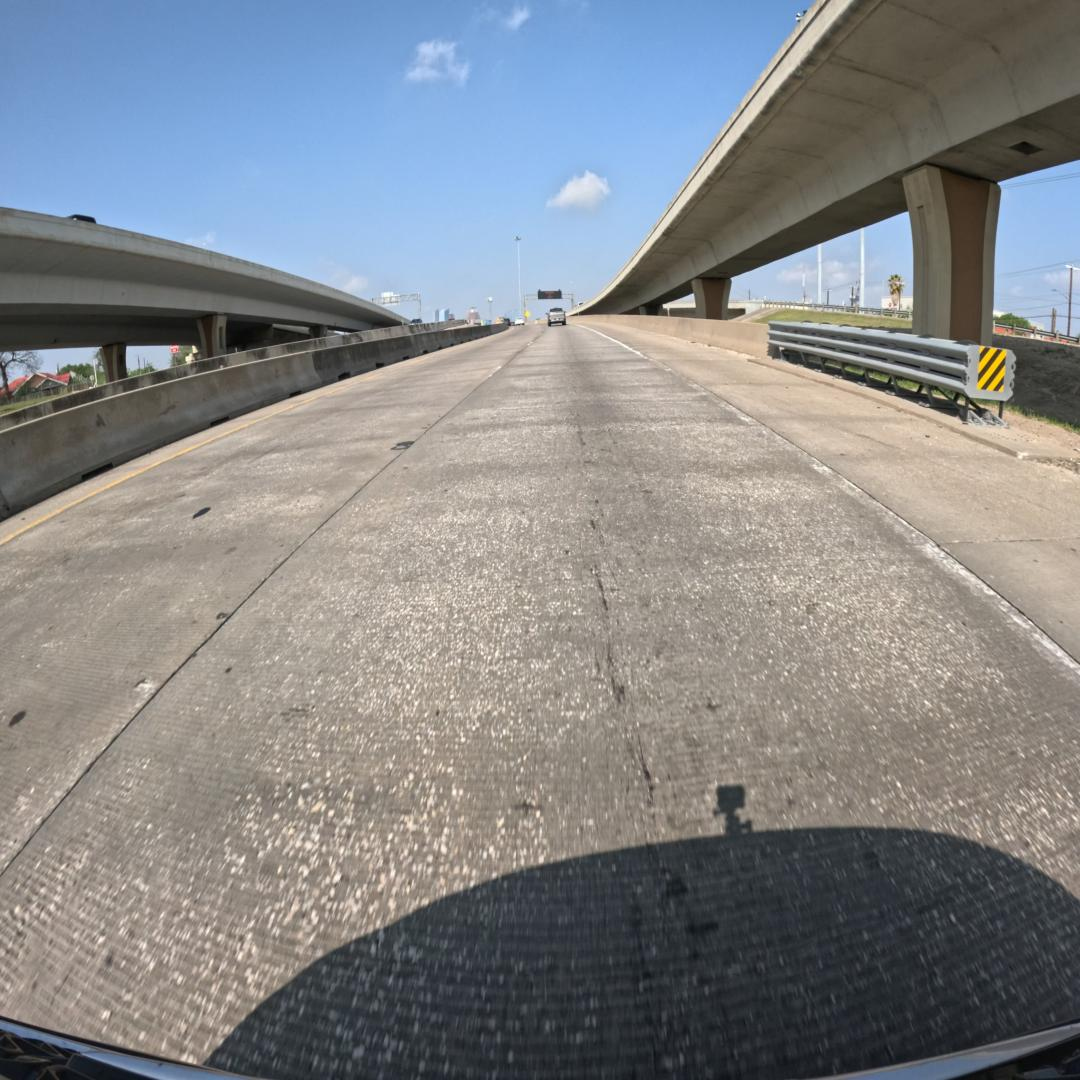lane0: (0, 327, 1080, 1077)
lane1: (0, 325, 543, 872)
